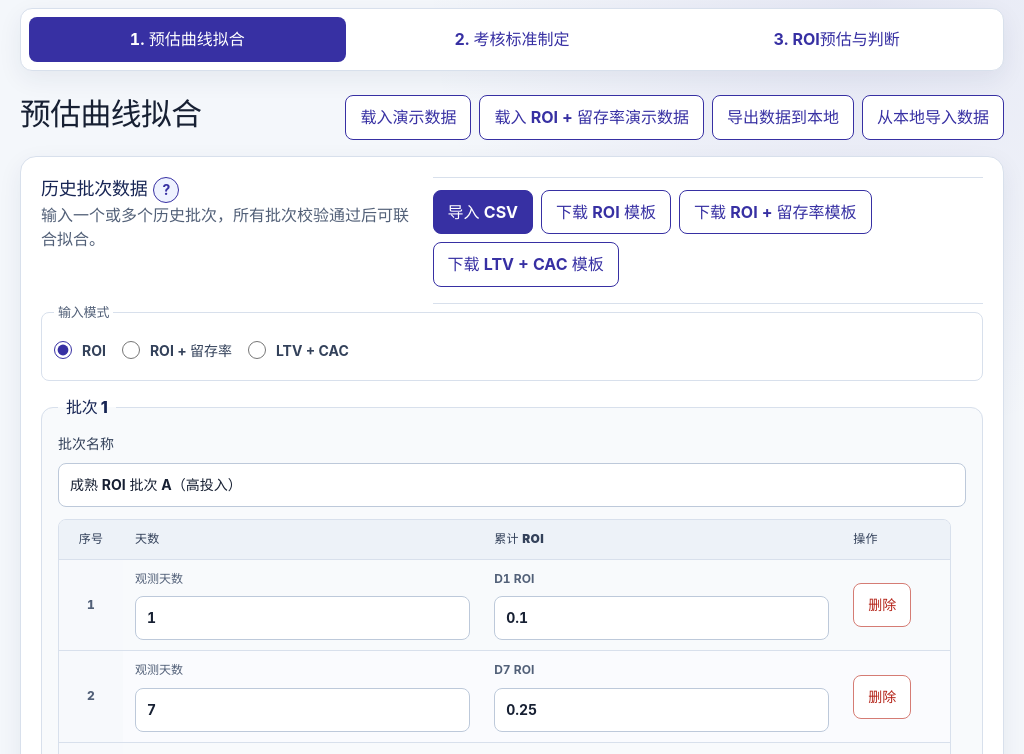
Scenario: two-workspace navigation › keeps target outcome and payback content only in ROI estimation
Click the button "3. ROI预估与判断": (837, 39) [678,17,995,62]
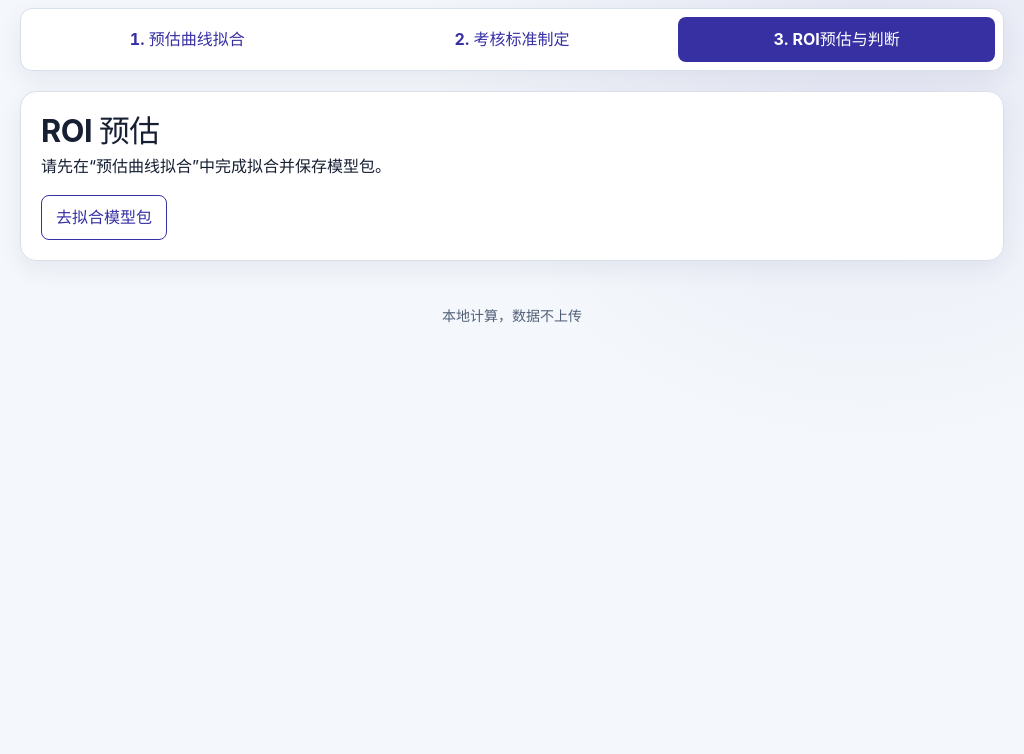
Expected: the heading "ROI 预估" is shown, [41,112,159,149]
